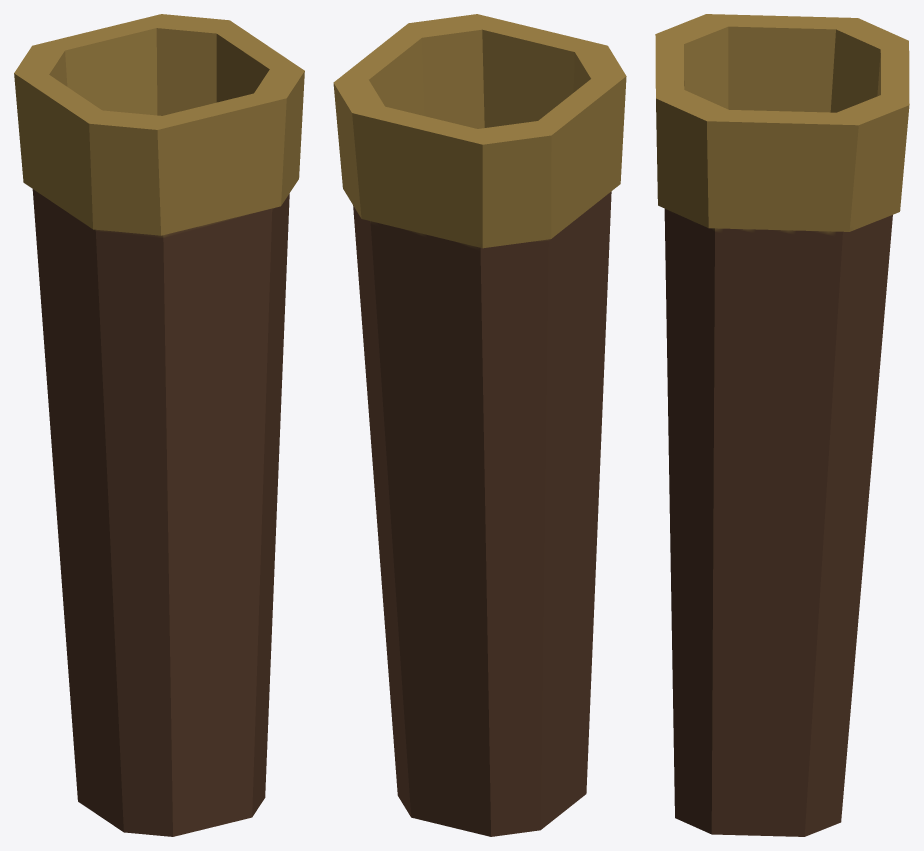
The model's file is Quiver_Yellow.fbx.
3 renders of one model, left to right at view 1: azimuth 30°, elevation 25°; view 2: azimuth 150°, elevation 25°; view 3: azimuth 270°, elevation 25°, orthographic.
Visible parts, largest first — view 1: Quiver_Yellow_Baked; view 2: Quiver_Yellow_Baked; view 3: Quiver_Yellow_Baked.
Part boxes in pixels (bbox=[...]): Quiver_Yellow_Baked: bbox=[14, 14, 304, 836]; Quiver_Yellow_Baked: bbox=[333, 14, 626, 836]; Quiver_Yellow_Baked: bbox=[655, 14, 909, 836].
Size of the model in its own units: 12.64 by 40.43 by 12.63.
1 material, 1 textured.
